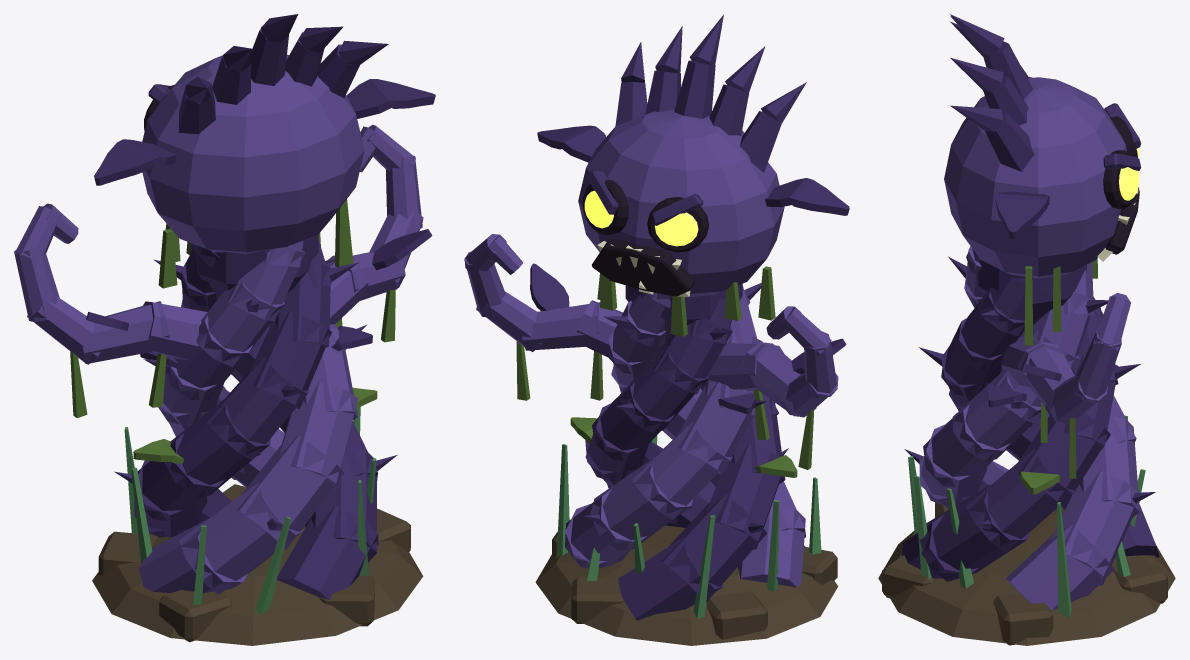
The model's file is boss_vine.glb.
The picture shows the model from 3 angles, left to right: view 1: azimuth 30°, elevation 25°; view 2: azimuth 150°, elevation 25°; view 3: azimuth 270°, elevation 25°; orthographic projection. The views are drawn at different scales.
Visible parts, largest first — view 1: SmoothPlastic__5A468C, SmoothPlastic__3C2C62, Mud__4A3E2E, LeafyGrass__547634, Grass__508C5A; view 2: SmoothPlastic__5A468C, SmoothPlastic__3C2C62, Mud__4A3E2E, LeafyGrass__547634, SmoothPlastic__1E1424, Grass__508C5A, Neon__B4FF46; view 3: SmoothPlastic__5A468C, SmoothPlastic__3C2C62, Mud__4A3E2E, Grass__508C5A, LeafyGrass__547634, SmoothPlastic__1E1424, Neon__B4FF46.
Part boxes in pixels (left/top/right/bottom): SmoothPlastic__5A468C: left=14, top=54, right=423, bottom=594; SmoothPlastic__3C2C62: left=86, top=14, right=435, bottom=599; Mud__4A3E2E: left=92, top=484, right=423, bottom=645; LeafyGrass__547634: left=70, top=199, right=395, bottom=464; Grass__508C5A: left=124, top=407, right=376, bottom=614; SmoothPlastic__5A468C: left=464, top=110, right=838, bottom=587; SmoothPlastic__3C2C62: left=530, top=14, right=849, bottom=620; Mud__4A3E2E: left=535, top=519, right=838, bottom=645; LeafyGrass__547634: left=516, top=266, right=814, bottom=477; SmoothPlastic__1E1424: left=583, top=180, right=708, bottom=296; Grass__508C5A: left=556, top=435, right=821, bottom=618; Neon__B4FF46: left=584, top=190, right=698, bottom=246; SmoothPlastic__5A468C: left=919, top=77, right=1139, bottom=610; SmoothPlastic__3C2C62: left=901, top=14, right=1159, bottom=581; Mud__4A3E2E: left=878, top=502, right=1175, bottom=645; Grass__508C5A: left=908, top=415, right=1145, bottom=618; LeafyGrass__547634: left=1020, top=258, right=1097, bottom=494; SmoothPlastic__1E1424: left=1103, top=116, right=1139, bottom=254; Neon__B4FF46: left=1119, top=148, right=1139, bottom=200.
Size of the model in its own units: 14.02 by 20.38 by 9.57.
